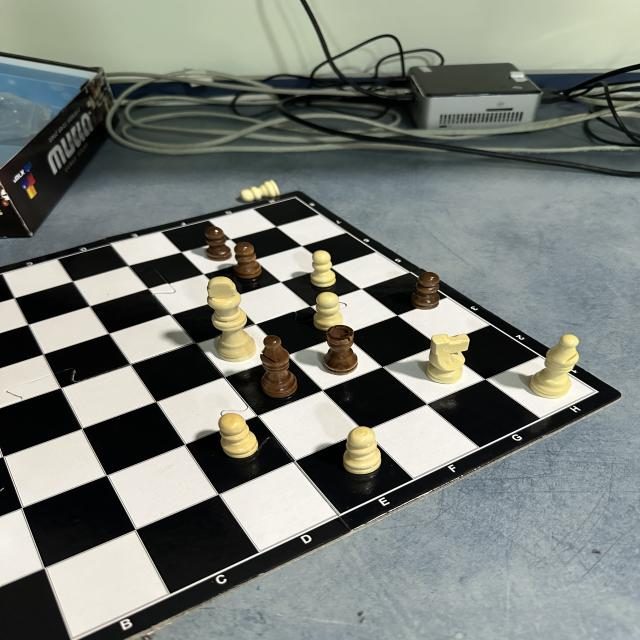Black-Bishop: (260, 335, 298, 398)
Black-Pawn: (409, 272, 442, 310), (203, 226, 234, 262), (233, 242, 263, 279)
Black-Rook: (321, 324, 359, 376)
White-Bishop: (530, 334, 581, 398)
White-King: (206, 276, 258, 362)
White-Knight: (426, 332, 471, 384)
White-Pawn: (216, 412, 258, 459), (342, 426, 383, 474), (312, 292, 344, 328), (310, 249, 338, 289), (239, 179, 282, 203)
